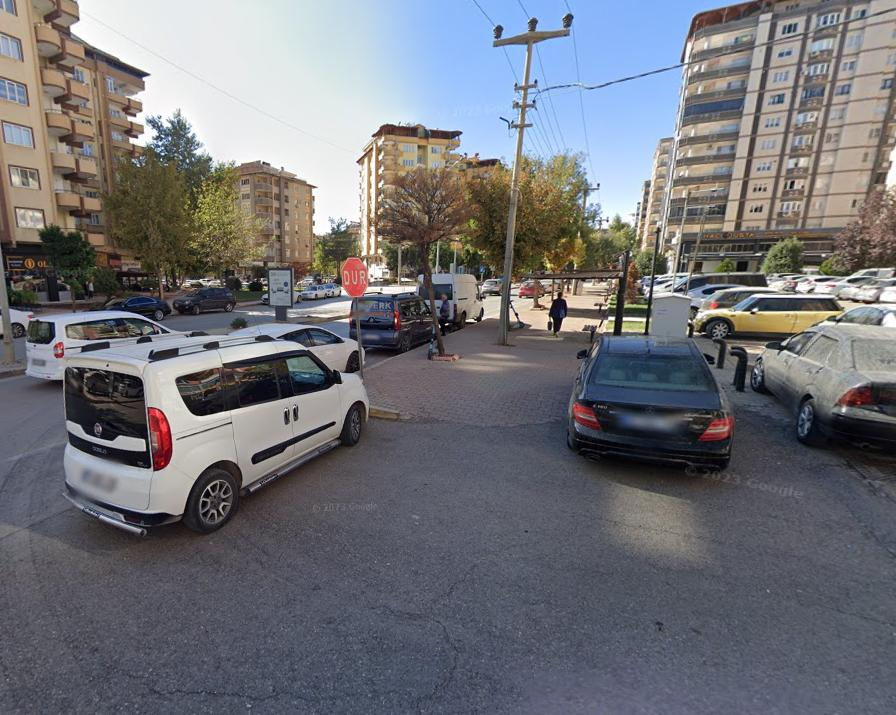stop: (341, 256, 369, 297)
